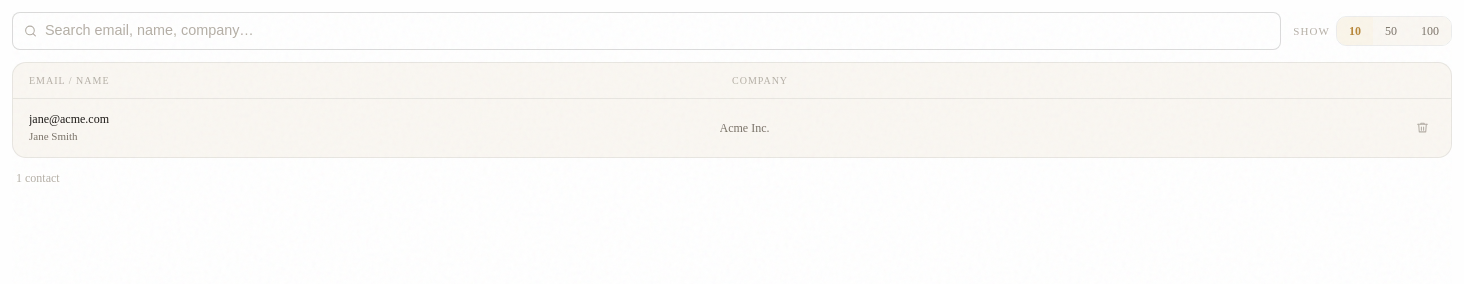
it: ContactsTable › clears search when 'Clear search' is clicked
In the search field: (647, 31) [12,12,1281,50], type "zzznomatch"
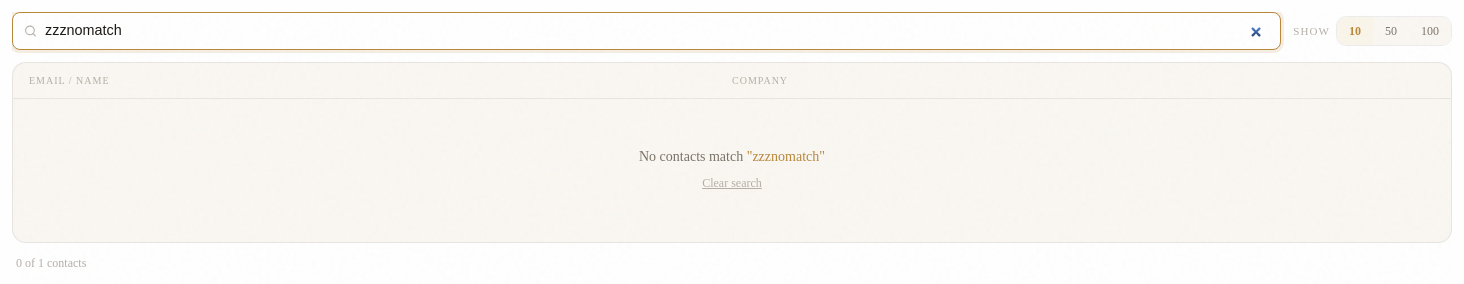
Click the button "Clear search": (732, 183) [702,175,762,191]
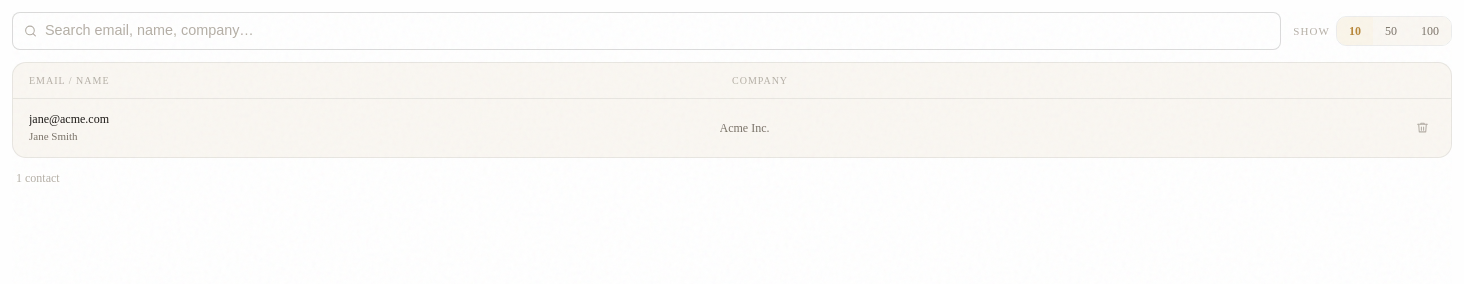
Result: the text "jane@acme.com" is shown at [29,112,109,126]
